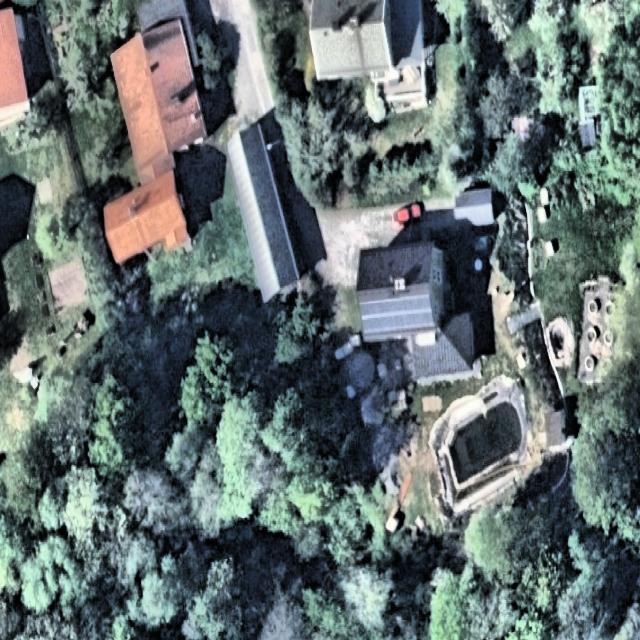roof_pv: (359, 290, 435, 338)
